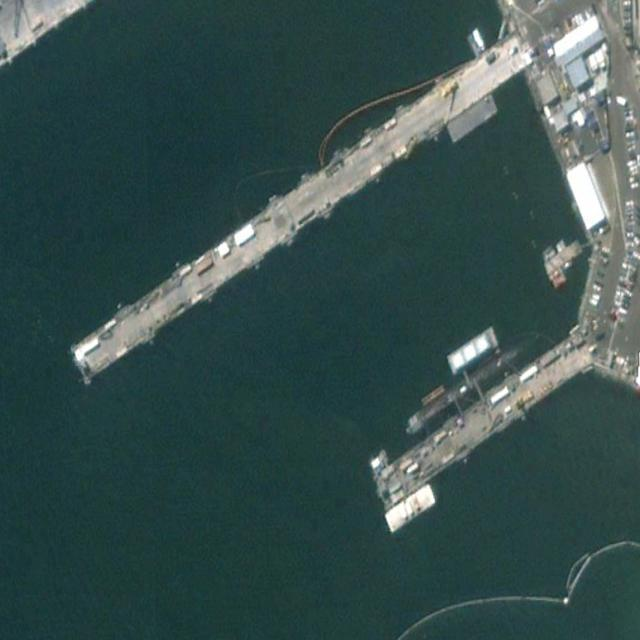Submarine: (402, 328, 545, 437)
